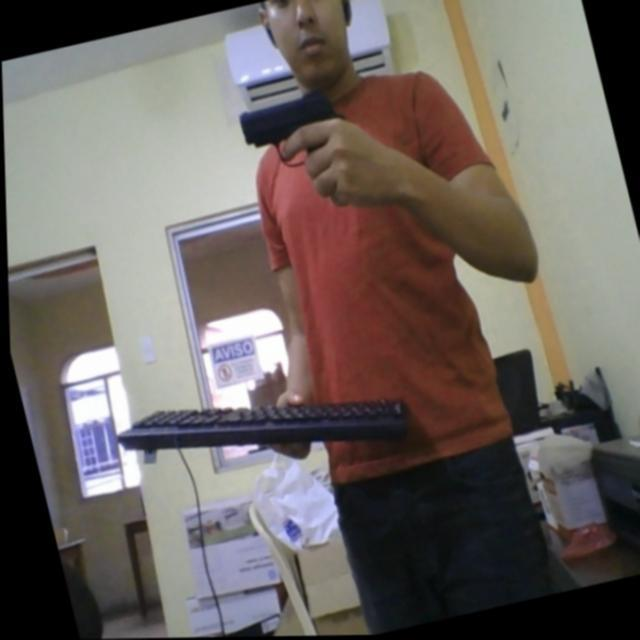weapon: (226, 80, 362, 191)
